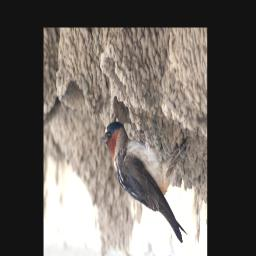Swallow: (99, 120, 191, 244)
